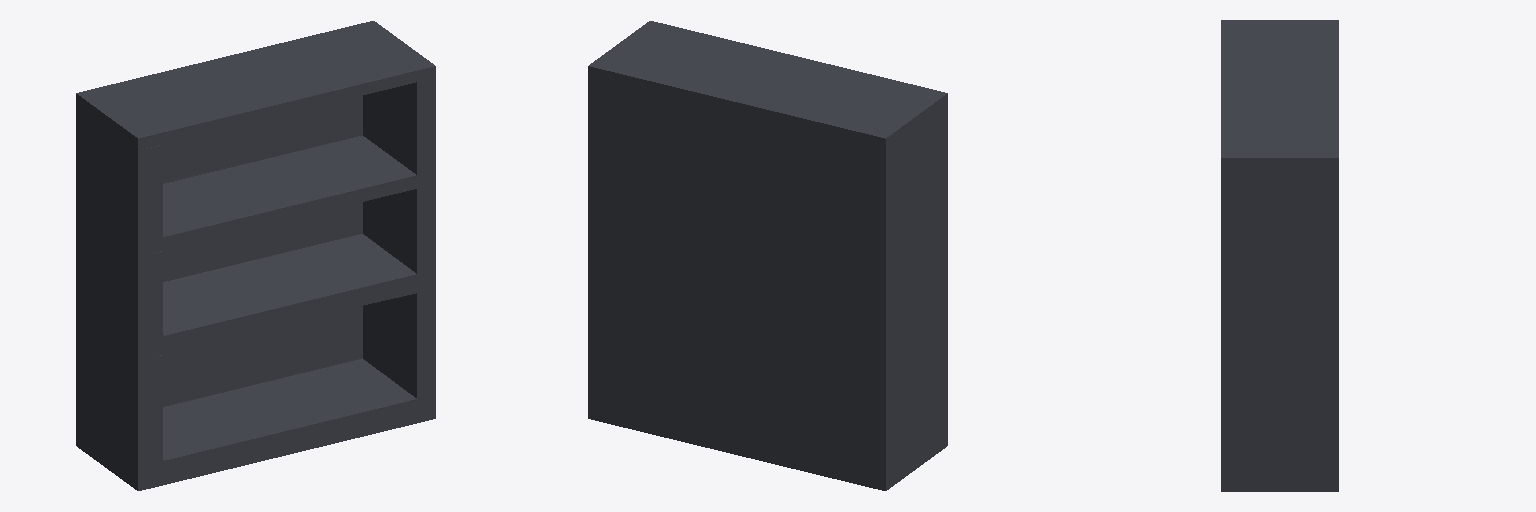
URDF robot description (../obj/shelf.urdf):
<?xml version="1.0" ?>
<robot name="../obj/shelf.urdf">
  <link name="baseLink">
    <inertial>
      <origin rpy="0 0 0" xyz="-0.0024 0.0069 0.0029"/>
       <mass value="50"/>
       <inertia ixx="1.977380406026458e-06" ixy="-1.436218666157275e-08" ixz="3.5803022047540055e-10" iyy="3.4768254310543697e-06" iyz="-2.4268368105326728e-08" izz="1.8638995369824278e-06"/>
    </inertial>
    <visual>
      <origin rpy="0 0 0" xyz="-0.0024 0.0069 0.0029"/>
      <geometry>
        <mesh filename="../obj/shelf_vhacd.obj" 
		scale="10.0 10.0 10.0"/>
      </geometry>
     <material name="grey">
      <color rgba="0.32 0.33 0.36 1"/>
     </material>
    </visual>
    <collision>
      <origin rpy="0 0 0" xyz="-0.0024 0.0069 0.0029"/>
      <geometry>
        <mesh filename="../obj/shelf_vhacd.obj" scale="10.0 10.0 10.0"/>
      </geometry>
    </collision>
  </link>
</robot>
        

--- What the picture shows (computed from the rendered views, not written in the file) ---
The picture shows the robot from 3 angles, left to right: view 1: azimuth 30°, elevation 25°; view 2: azimuth 150°, elevation 25°; view 3: azimuth 270°, elevation 25°; orthographic projection.
Robot: ../obj/shelf.urdf — 1 links, 0 joints (none); root link baseLink; default pose: every joint at zero.
Visible links, largest first — view 1: baseLink; view 2: baseLink; view 3: baseLink.
Boxes of the visible links, x1=… form: baseLink: x1=76, y1=21, x2=435, y2=490; baseLink: x1=588, y1=21, x2=947, y2=490; baseLink: x1=1221, y1=20, x2=1338, y2=491.
Size in the robot's own frame: 1.53 by 0.555 by 1.74 metres.
Meshes: 1 distinct files referenced, 1 mesh visuals loaded (1 OBJ).